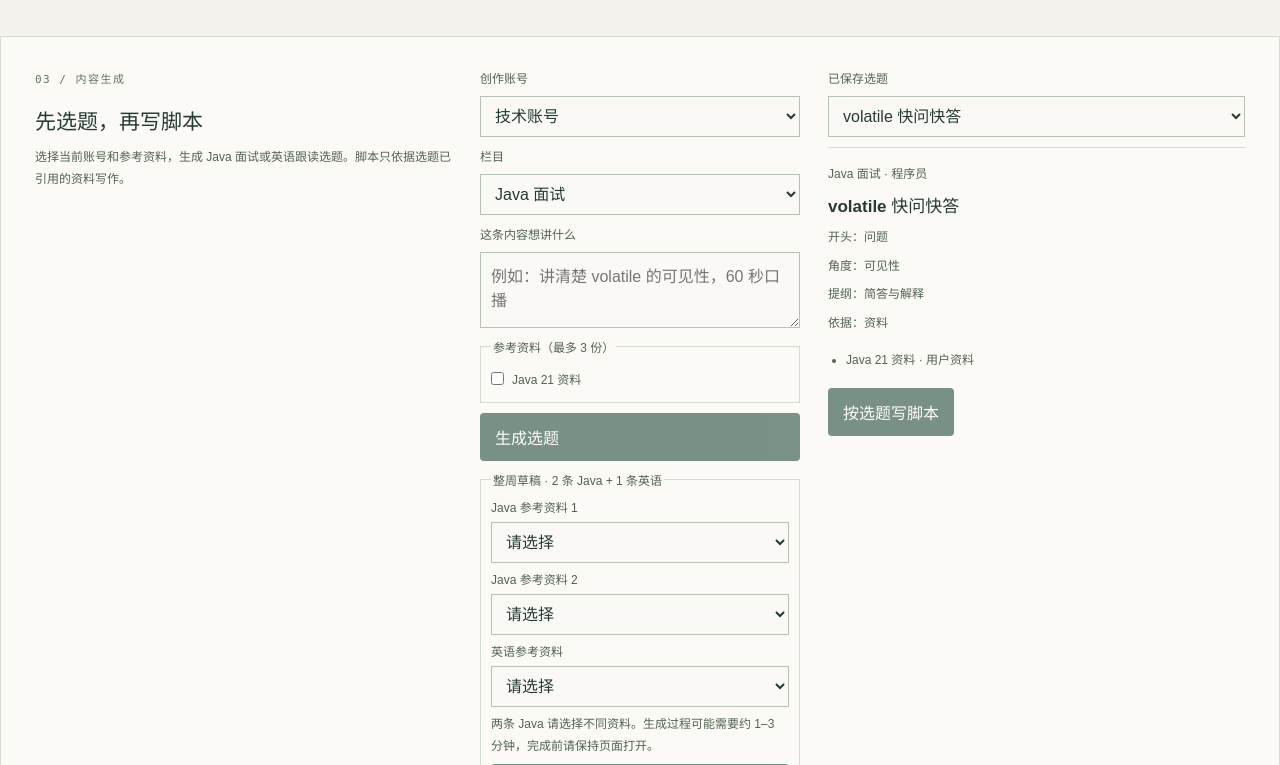
content generation page › keeps the selected topic script when an older script request finishes late
Select "volatile 快问快答" in the dropdown with id "generation-topic": [1036, 116] box [828,96,1245,137]
(page scrolled)
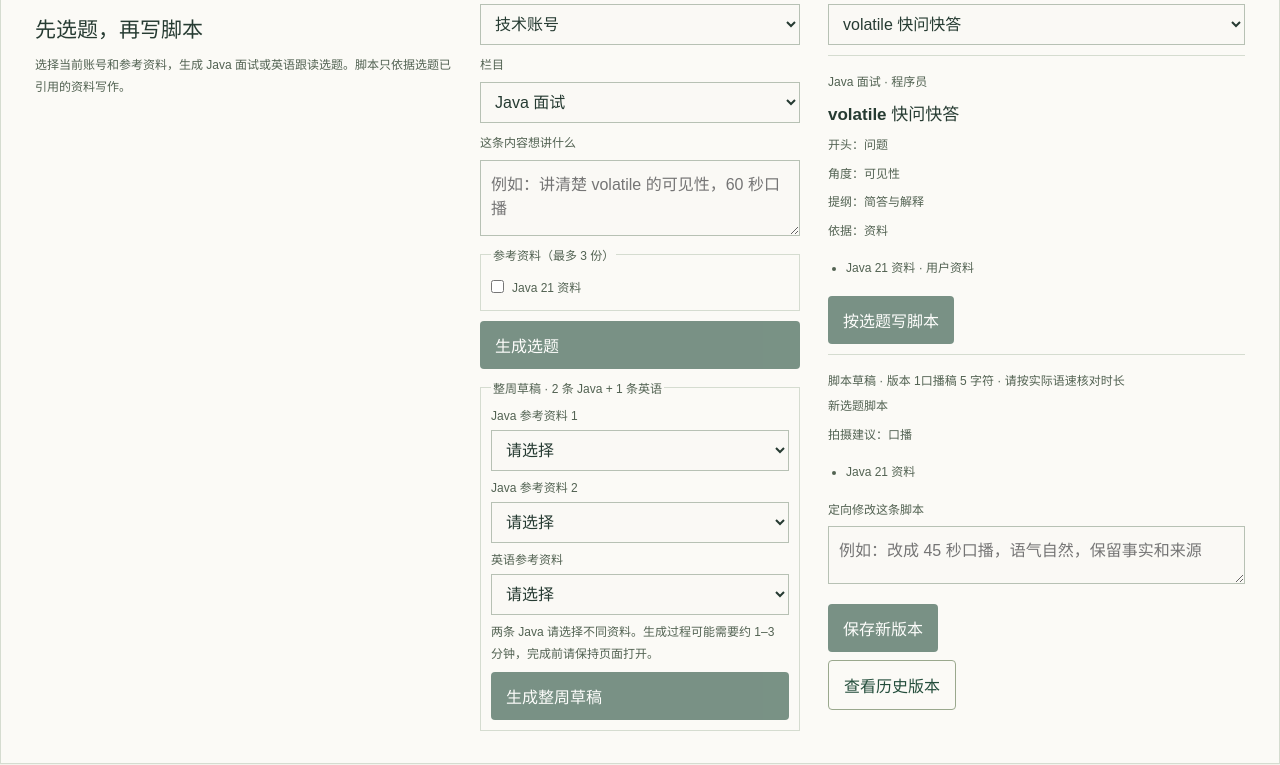
Result: the element that starts with "脚本草稿 · 版本 1" shows "新选题脚本" at [828,399,888,413]
